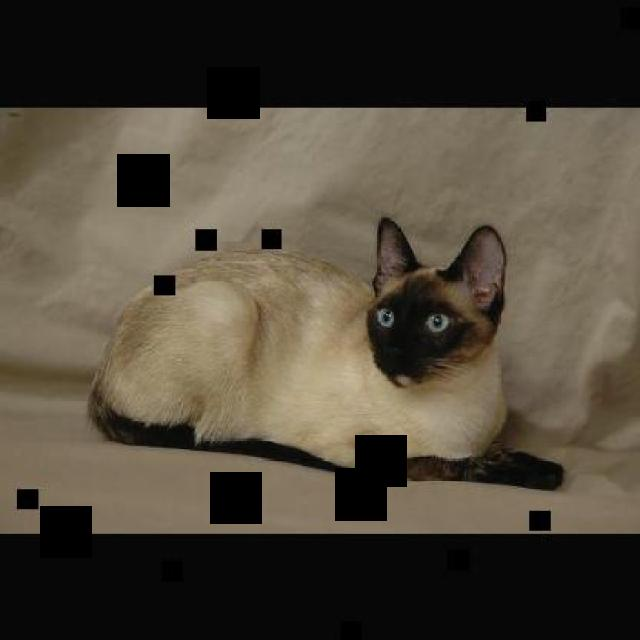unauthorized: (86, 215, 565, 491)
